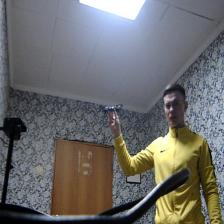drone: (97, 98, 123, 116)
